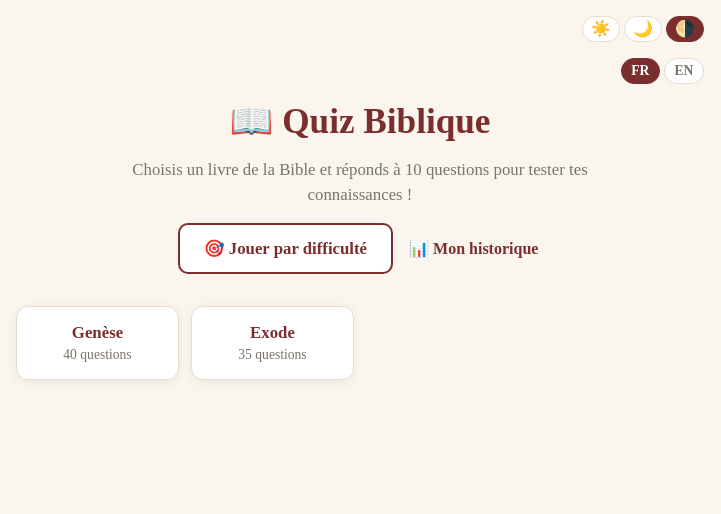
Test case: App - difficulty mode › does not render the language toggle on the setup screen
Expected: the button with aria-label "Français" is shown, [621,58,660,84]
Click the button "🎯 Jouer par difficulté".
click(285, 248)  # box [178,223,393,274]
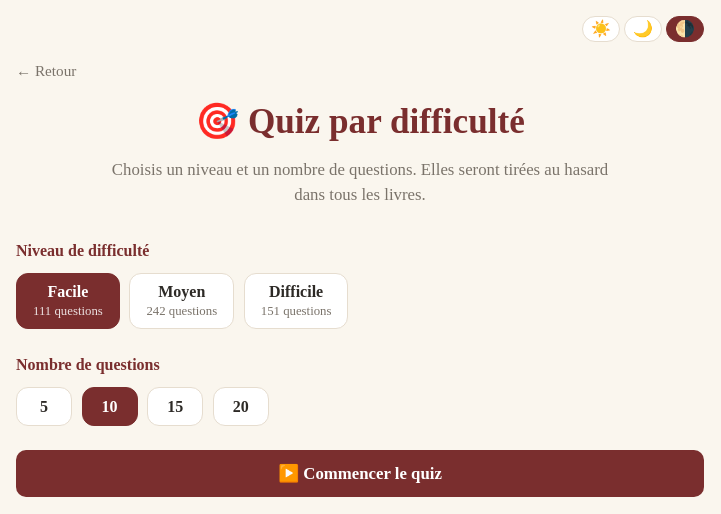
Now the button "Français" is gone
